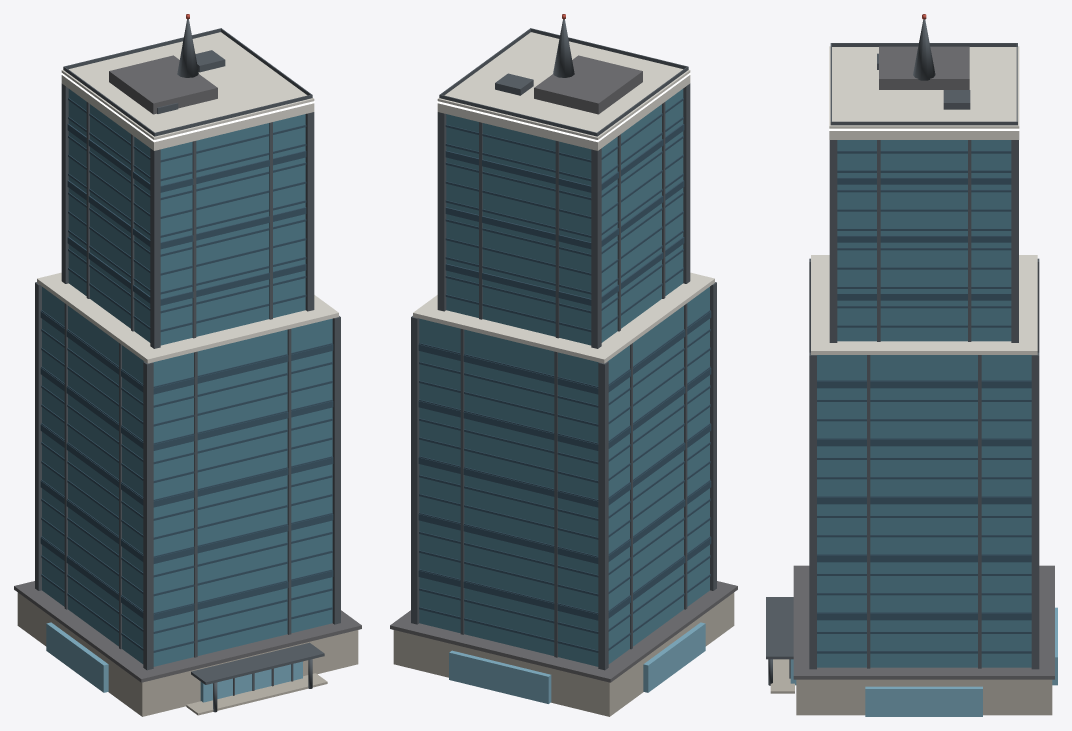
Rendered from office_tower_high.glb.
3 renders of one model, left to right at view 1: azimuth 30°, elevation 25°; view 2: azimuth 150°, elevation 25°; view 3: azimuth 270°, elevation 25°, orthographic. The views are drawn at different scales.
Visible parts, largest first — view 1: Merged_TowerGlass, Merged_TowerSpandrel, Merged_TowerMetal, Merged_TowerTrim, Merged_RoofDark, Merged_TowerStone, Merged_FacadeGlass, office_crown_light0320; view 2: Merged_TowerGlass, Merged_TowerSpandrel, Merged_TowerMetal, Merged_TowerTrim, Merged_RoofDark, Merged_TowerStone, Merged_FacadeGlass, office_crown_light0320; view 3: Merged_TowerGlass, Merged_TowerSpandrel, Merged_TowerTrim, Merged_TowerMetal, Merged_RoofDark, Merged_TowerStone, Merged_FacadeGlass, office_crown_light0320.
Part boxes in pixels (x1,y1,x2,y2): Merged_TowerGlass: (42, 89, 332, 666); Merged_TowerSpandrel: (40, 98, 333, 652); Merged_TowerMetal: (35, 19, 340, 712); Merged_TowerTrim: (37, 32, 338, 363); Merged_RoofDark: (14, 55, 361, 682); Merged_TowerStone: (17, 592, 358, 716); Merged_FacadeGlass: (46, 622, 302, 702); office_crown_light0320: (61, 72, 314, 142); Merged_TowerGlass: (419, 89, 709, 666); Merged_TowerSpandrel: (418, 98, 711, 652); Merged_TowerMetal: (411, 19, 716, 670); Merged_TowerTrim: (413, 32, 714, 363); Merged_RoofDark: (390, 55, 737, 682); Merged_TowerStone: (393, 592, 734, 716); Merged_FacadeGlass: (449, 622, 705, 703); office_crown_light0320: (437, 72, 690, 142); Merged_TowerGlass: (817, 140, 1031, 667); Merged_TowerSpandrel: (817, 151, 1031, 653); Merged_TowerTrim: (811, 46, 1037, 354); Merged_TowerMetal: (766, 19, 1039, 685); Merged_RoofDark: (793, 46, 1054, 679); Merged_TowerStone: (770, 659, 1052, 715); Merged_FacadeGlass: (790, 607, 1057, 716); office_crown_light0320: (829, 48, 1019, 130).
Bounding box in the file's own units: 39.7 × 106 × 43.35.
